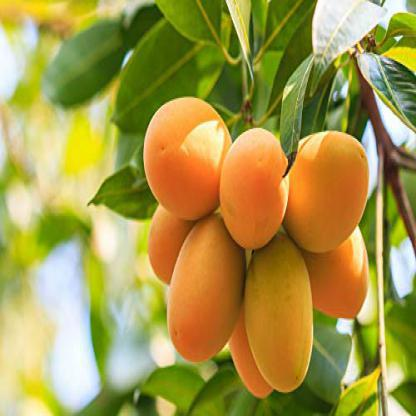mango: (142, 93, 233, 220), (166, 216, 244, 364), (242, 232, 312, 394), (286, 130, 370, 252), (218, 126, 288, 249), (307, 223, 373, 318), (146, 196, 208, 287)
